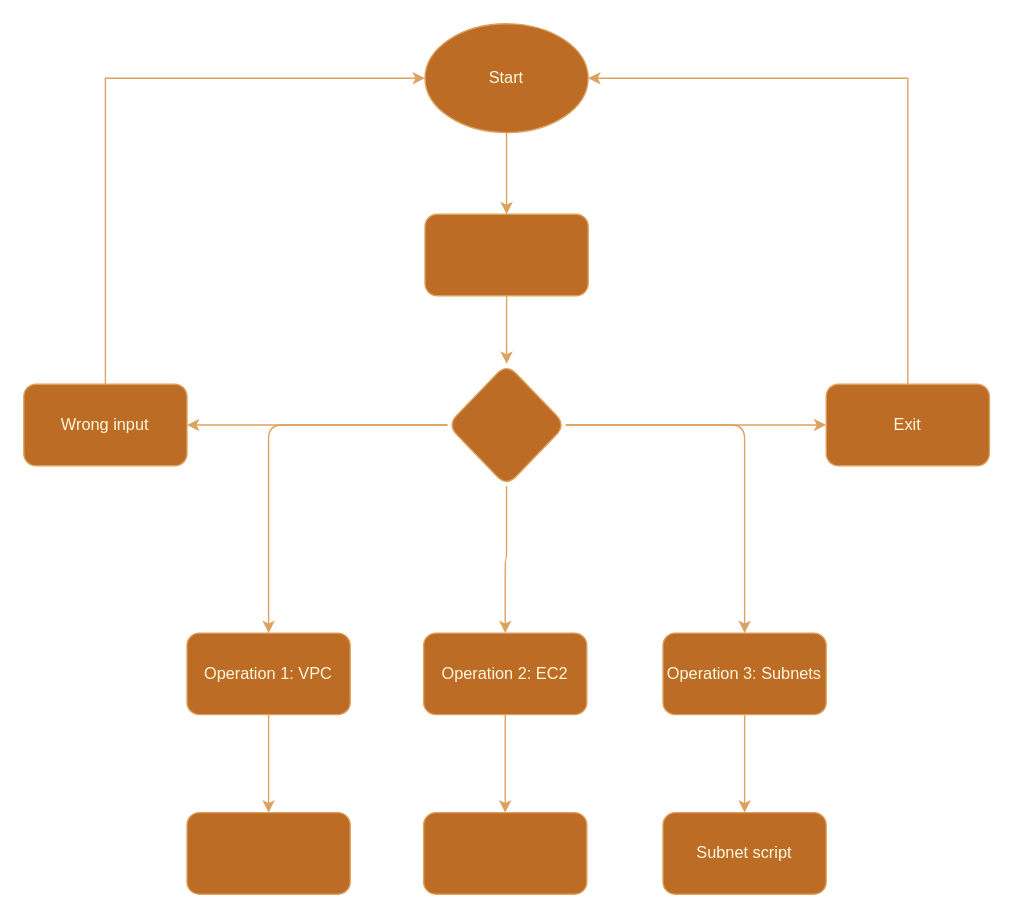
Some shapes in this 1013 by 918 pixel diagram are drawn without their labels. Here are the shapes that lost their labels. From the top down, the centre of each, then its label:
At point (506, 254): "Main Script".
At point (506, 424): "Choose operation".
At point (268, 852): "VPC script".
At point (504, 852): "EC2 script".
